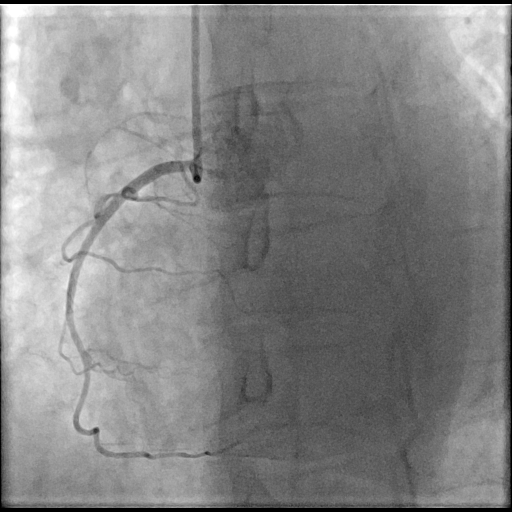RCA: (66, 161, 197, 457)
catherter: (189, 5, 203, 183)
